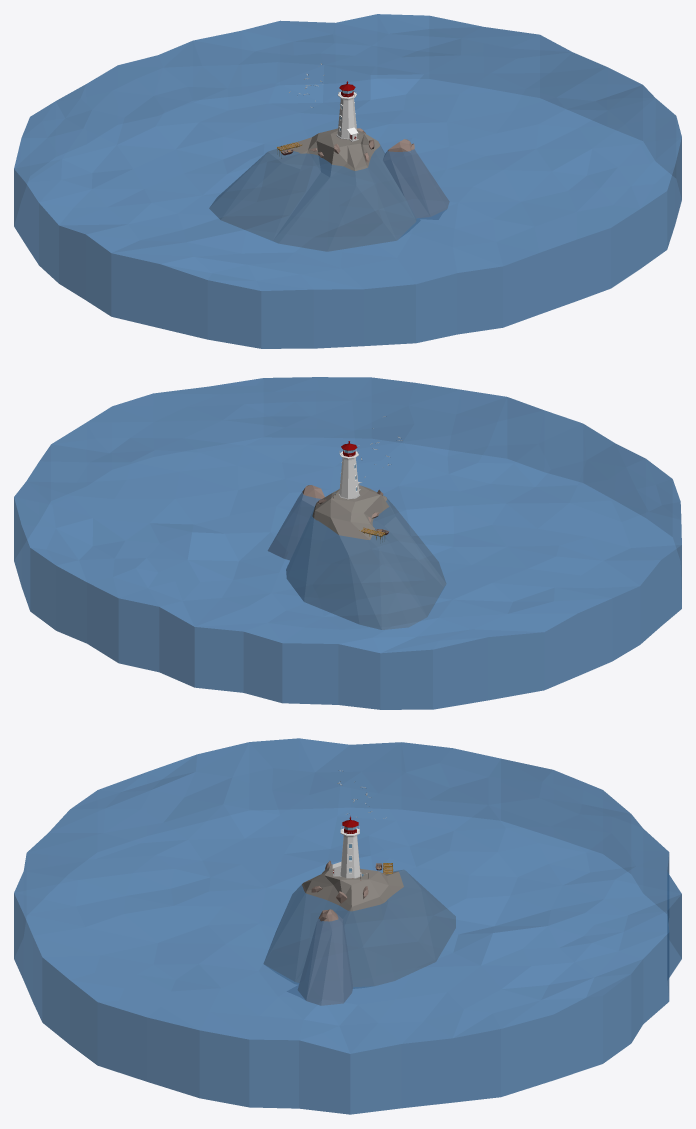
File: lighthouse_on_island.glb
3 views of the same model, one above another, from view 1: azimuth 30°, elevation 25°; view 2: azimuth 150°, elevation 25°; view 3: azimuth 270°, elevation 25° (orthographic). The views are drawn at different scales.
Visible parts, largest first — view 1: ambient, ambient_rocks_1_0.006, lighthouse; view 2: ambient, ambient_rocks_1_0.006, lighthouse; view 3: ambient, ambient_rocks_1_0.006, lighthouse.
Boxes of the visible parts, x1,y1,x2,y2 form: ambient: (14,14,681,348); ambient_rocks_1_0.006: (310,128,449,219); lighthouse: (336,81,358,141); ambient: (14,377,681,709); ambient_rocks_1_0.006: (268,485,383,559); lighthouse: (333,441,361,499); ambient: (14,738,681,1114); ambient_rocks_1_0.006: (287,861,368,1005); lighthouse: (332,816,368,878).
Size of the model in its own units: 4.33 by 1.13 by 3.98.
